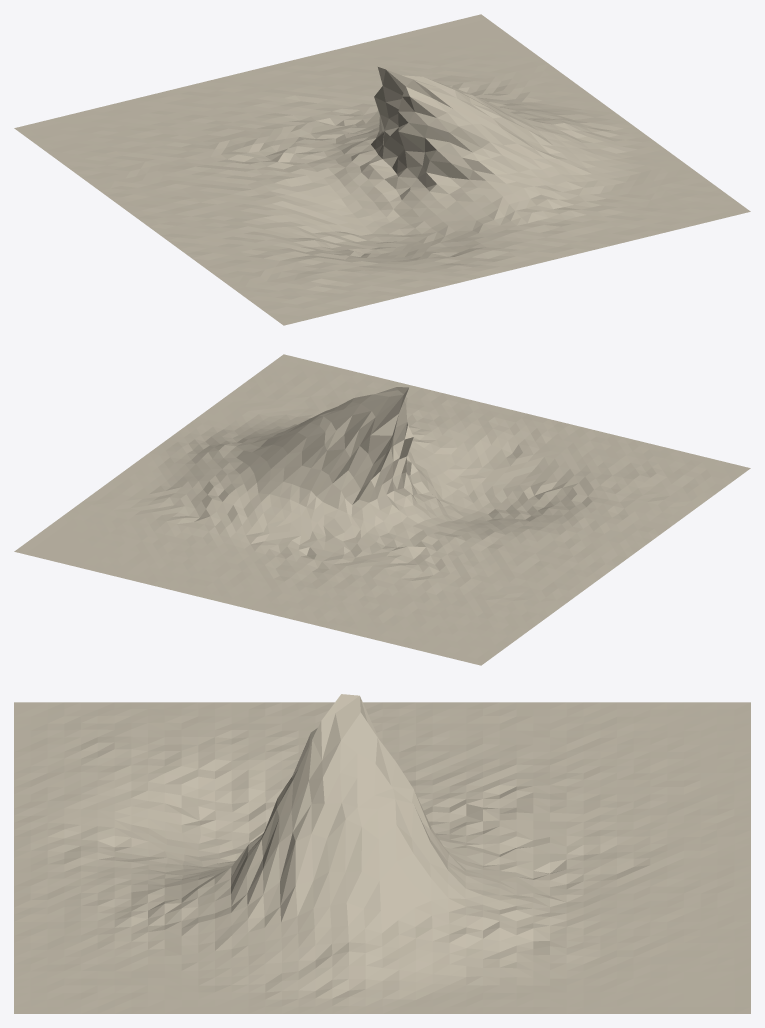
File: Ground_m_07.fbx
3 views of the same model, one above another, from view 1: azimuth 30°, elevation 25°; view 2: azimuth 150°, elevation 25°; view 3: azimuth 270°, elevation 25° (orthographic). The views are drawn at different scales.
Parts seen in each view (by area): view 1: Ground_m_07; view 2: Ground_m_07; view 3: Ground_m_07.
Boxes of the visible parts, x1=… form: Ground_m_07: x1=14, y1=14, x2=750, y2=325; Ground_m_07: x1=14, y1=354, x2=750, y2=665; Ground_m_07: x1=14, y1=694, x2=750, y2=1013.
Bounding box in the file's own units: 10000 × 2742 × 10000.
